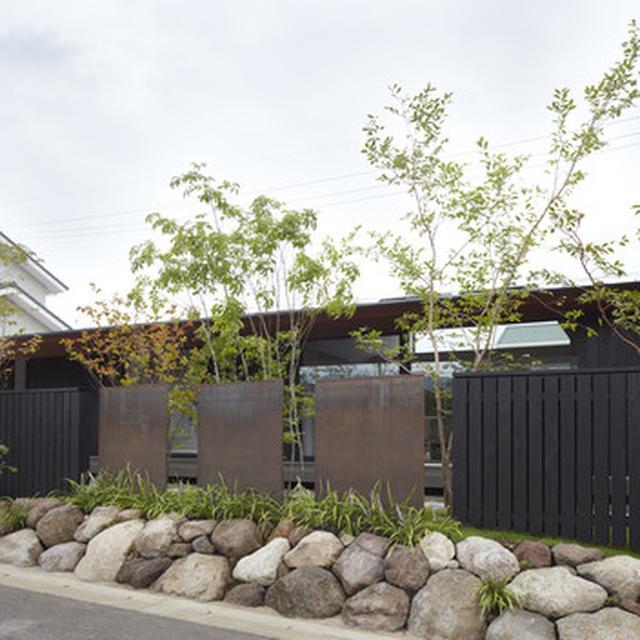building: (2, 273, 640, 485)
